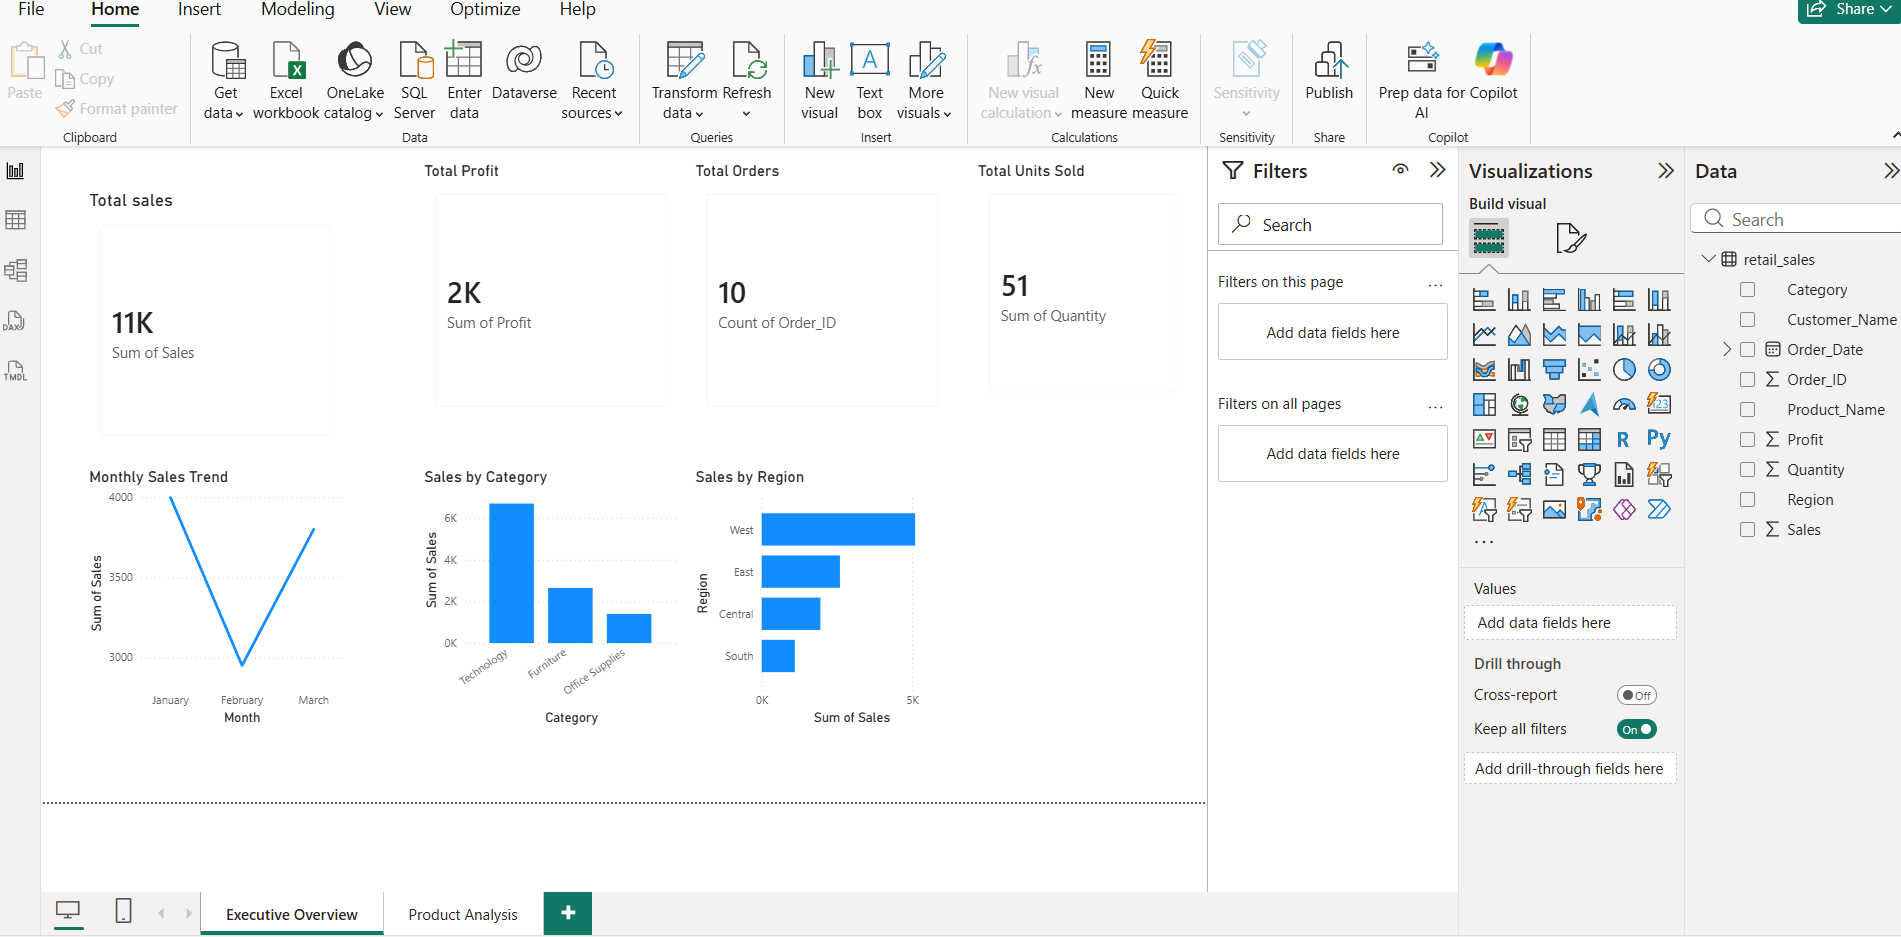

Layout of this report page (visuals, bound fields, positions):
{"tool":"powerbi","page":{"name":"Executive Overview","canvas":[1280,720],"ordinal":0},"visuals":[{"type":"cardVisual","title":"Total sales","fields":{"Data":["Sum(retail_sales.Sales)"]},"box":[48,48,288,288],"z":0},{"type":"cardVisual","title":"Total Profit","fields":{"Data":["Sum(retail_sales.Profit)"]},"box":[416,16,288,288],"z":1},{"type":"cardVisual","title":"Total Orders","fields":{"Data":["CountNonNull(retail_sales.Order_ID)"]},"box":[714,16,288,288],"z":2},{"type":"cardVisual","title":"Total Units Sold","fields":{"Data":["Sum(retail_sales.Quantity)"]},"box":[1024,16,240,272],"z":3},{"type":"lineChart","title":"Monthly Sales Trend","fields":{"Category":["retail_sales.Order_Date.Variation.Date Hierarchy.Month"],"Y":["Sum(retail_sales.Sales)"]},"box":[48,352,288,288],"z":4},{"type":"clusteredColumnChart","title":"Sales by Category","fields":{"Category":["retail_sales.Category"],"Y":["Sum(retail_sales.Sales)"]},"box":[416,352,288,288],"z":5},{"type":"clusteredBarChart","title":"Sales by Region","fields":{"Category":["retail_sales.Region"],"Y":["Sum(retail_sales.Sales)"]},"box":[714,352,288,288],"z":6}]}

Visuals, with their boxes on the page's 1280x720 design canvas (x1, y1, x2, y2). These are canvas units, not pixel positions in the 1901x937 screenshot, which may show the page scaled, cropped or inside an application window:
"Total sales" cardVisual: region(48, 48, 336, 336)
"Total Profit" cardVisual: region(416, 16, 704, 304)
"Total Orders" cardVisual: region(714, 16, 1002, 304)
"Total Units Sold" cardVisual: region(1024, 16, 1264, 288)
"Monthly Sales Trend" lineChart: region(48, 352, 336, 640)
"Sales by Category" clusteredColumnChart: region(416, 352, 704, 640)
"Sales by Region" clusteredBarChart: region(714, 352, 1002, 640)
